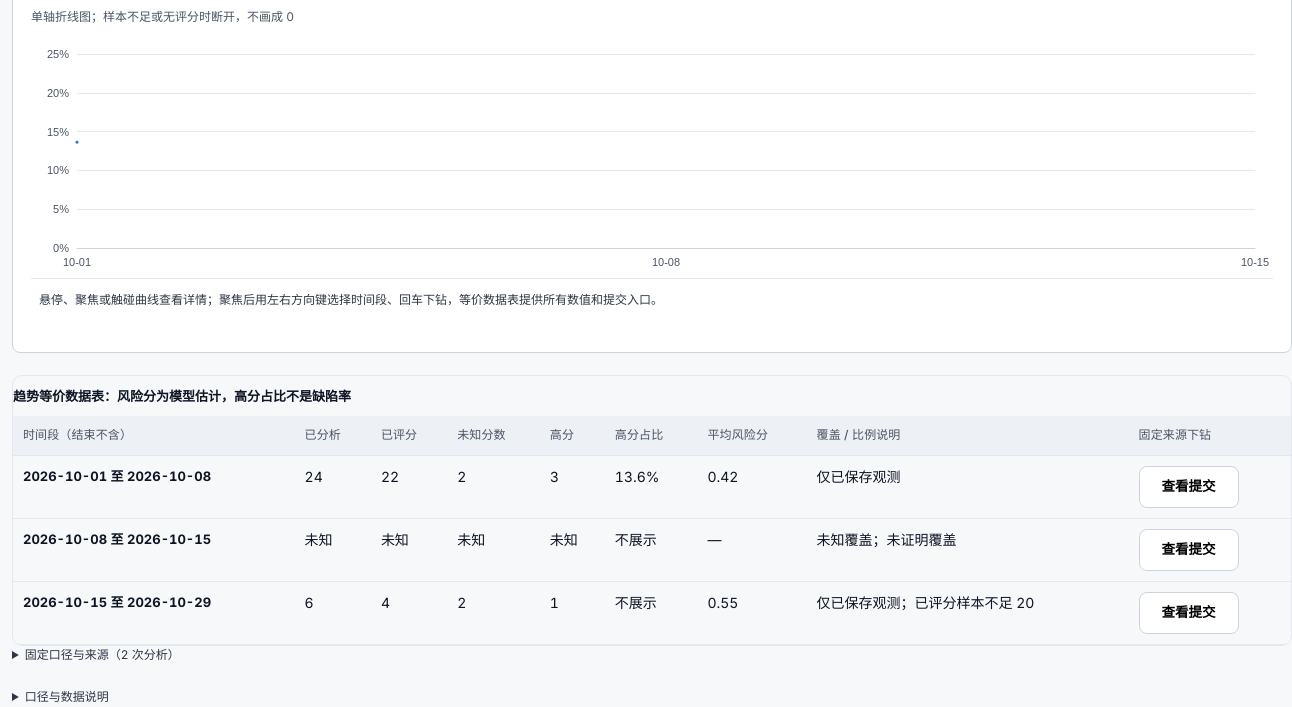
does not offer a foreign source when a drilldown response violates the frozen view
The image size is (1292, 707).
(page scrolled)
Click the button "查看提交" in the row of "24": (1188, 487) [1138, 466, 1238, 508]
(page scrolled)
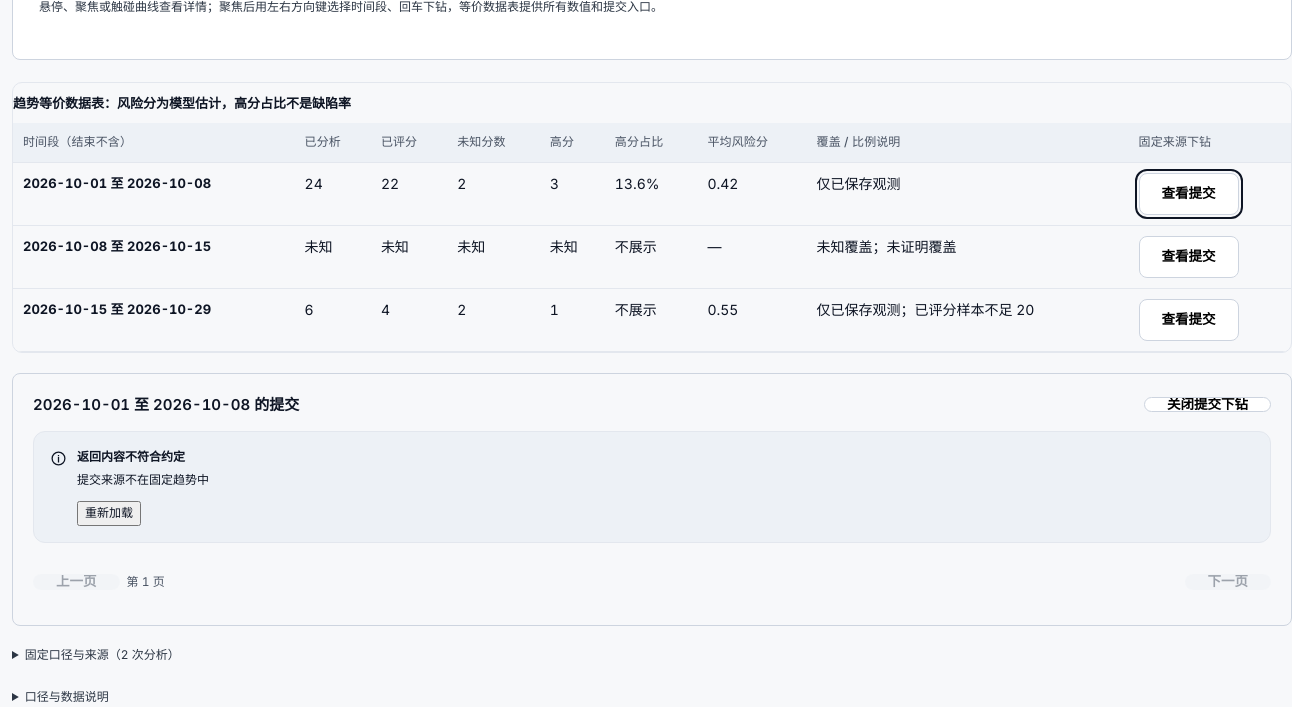
Expected: the text "提交来源不在固定趋势中" is shown, [77, 470, 209, 489]
